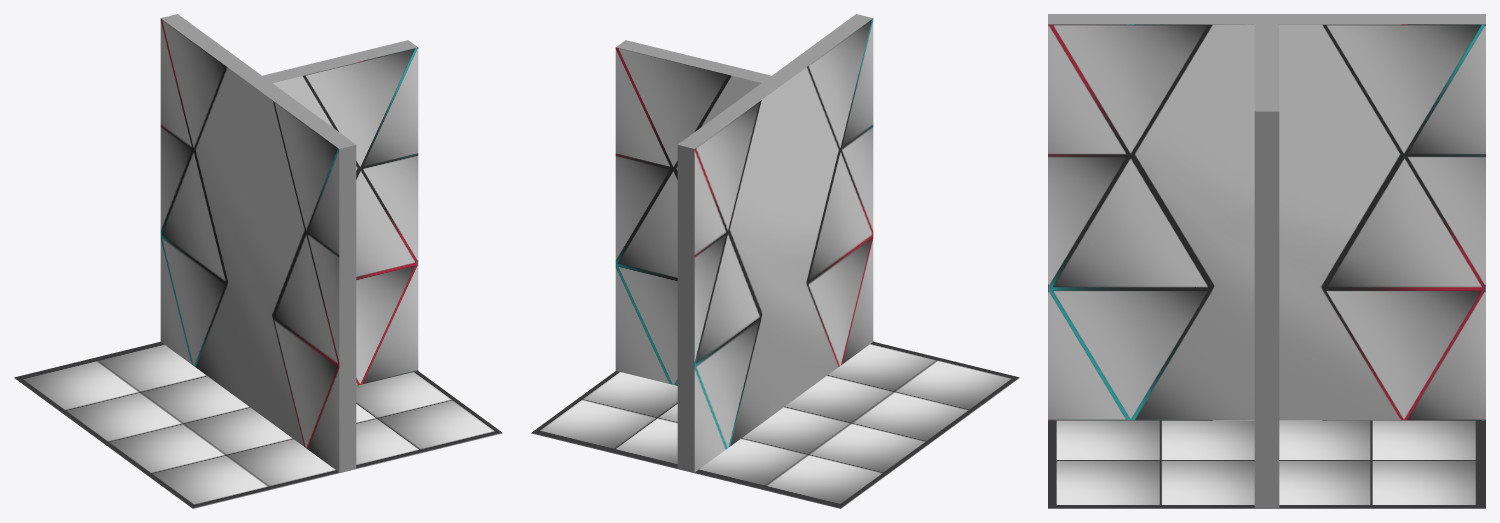
File: tcornerwall.fbx
3 renders of one model, left to right at view 1: azimuth 30°, elevation 25°; view 2: azimuth 150°, elevation 25°; view 3: azimuth 270°, elevation 25°, orthographic. The views are drawn at different scales.
Parts seen in each view (by area): view 1: polySurface600; view 2: polySurface600; view 3: polySurface600.
Boxes of the visible parts, bbox=[...] form: polySurface600: bbox=[14, 14, 502, 508]; polySurface600: bbox=[531, 14, 1019, 508]; polySurface600: bbox=[1048, 14, 1485, 508].
Size of the model in its own units: 2 by 2 by 2.
